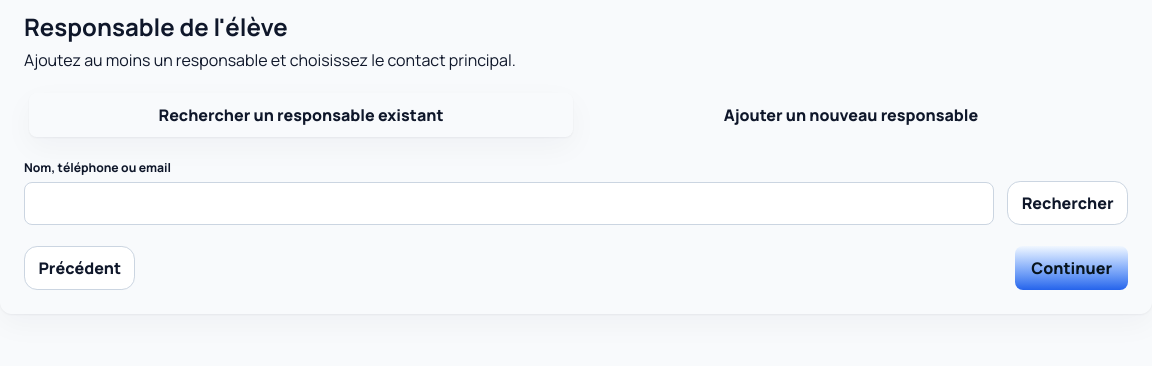
admission guardian step › exige au moins un responsable
Check: the element named "Choix du responsable" is shown, box [24, 88, 1128, 142]
Click the button "Continuer". click: (1072, 268)
box: [1015, 246, 1128, 290]
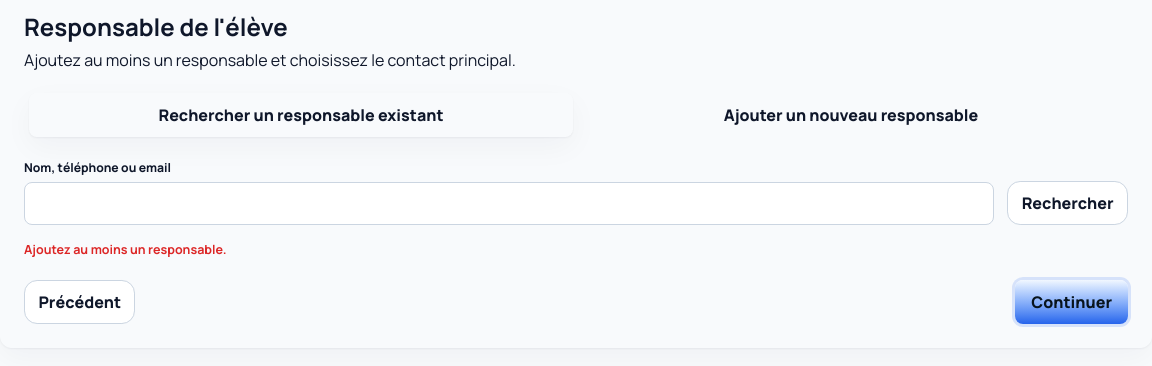
Check: the message reads "Ajoutez au moins un responsable.", box [24, 241, 226, 258]
